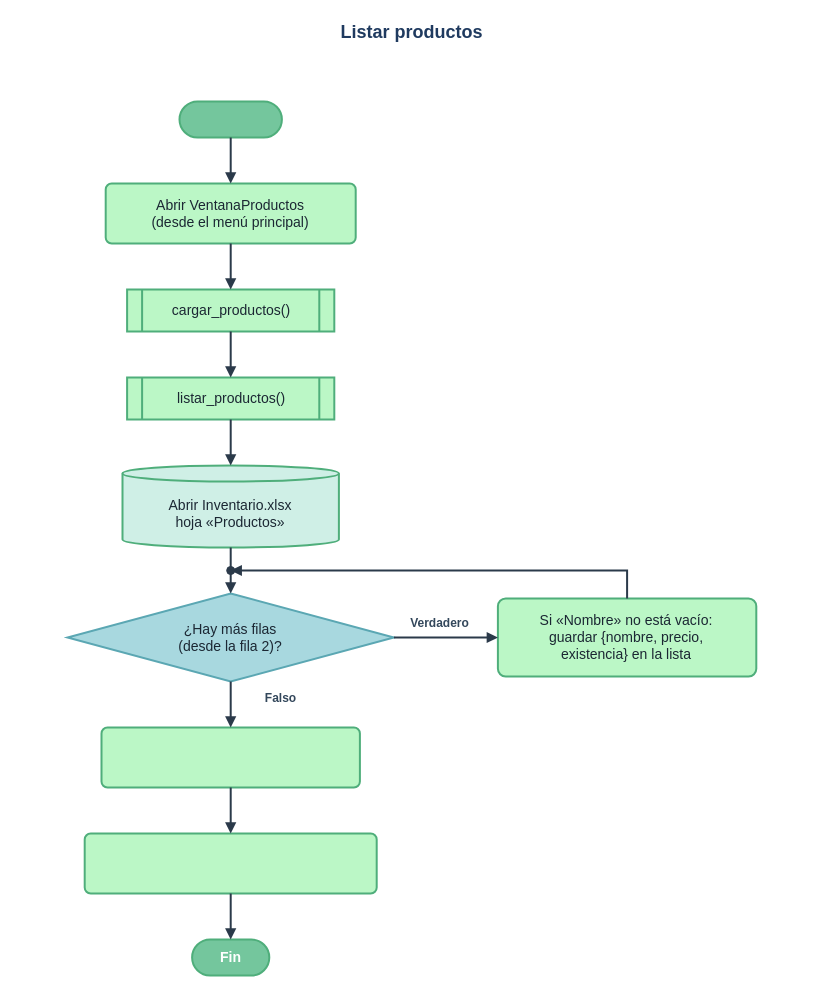
The diagram is 822 pixels wide and 993 high, and some of its shapes have lost their labels. The box of each missing label's shape, as (x1, y1, x2, y2) in pixels:
Cerrar el libro y devolver la lista de productos: (100, 726, 360, 788)
Inicio: (178, 100, 282, 138)
setRowCount(len(lista)) y llenar la tabla (QTableWidget): (83, 832, 377, 894)
